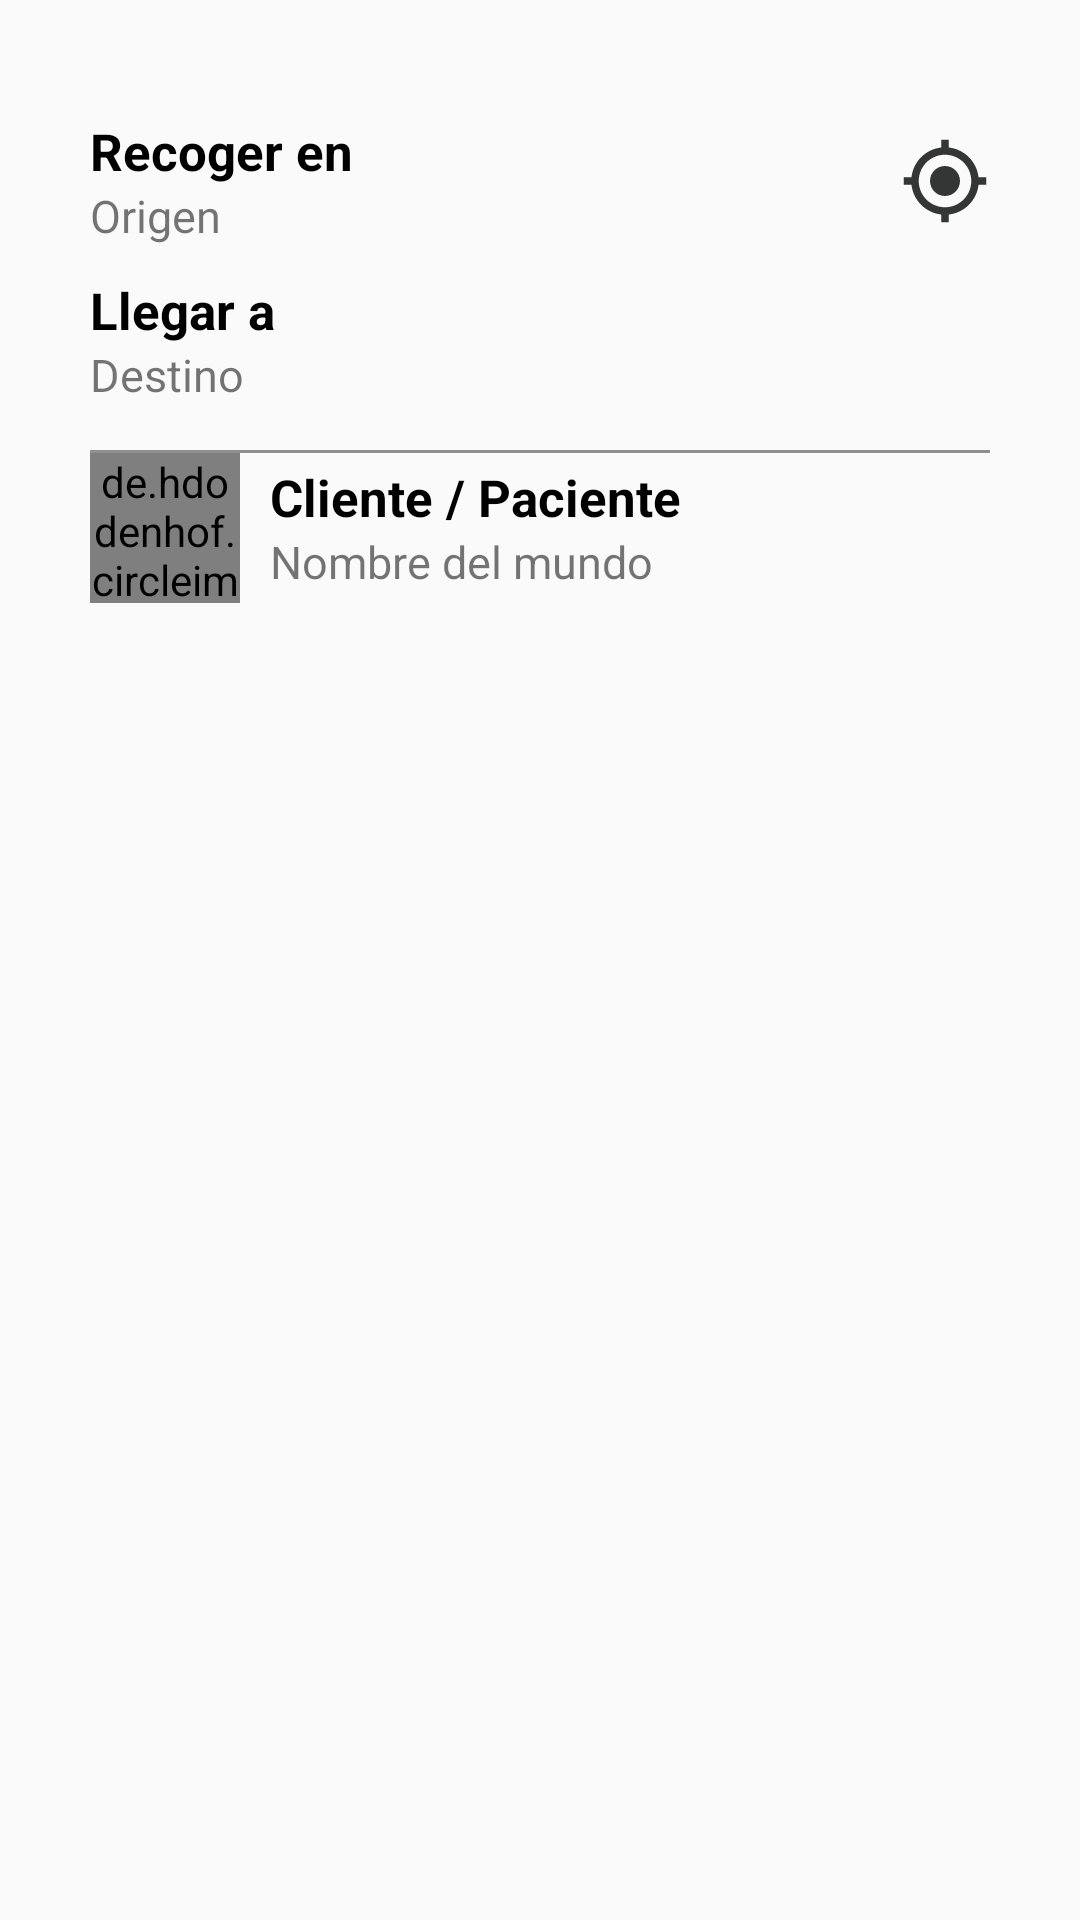

Screen size 1080 x 1920. Icon name, then its center in pixels as (x,y):
location: (945,181)
